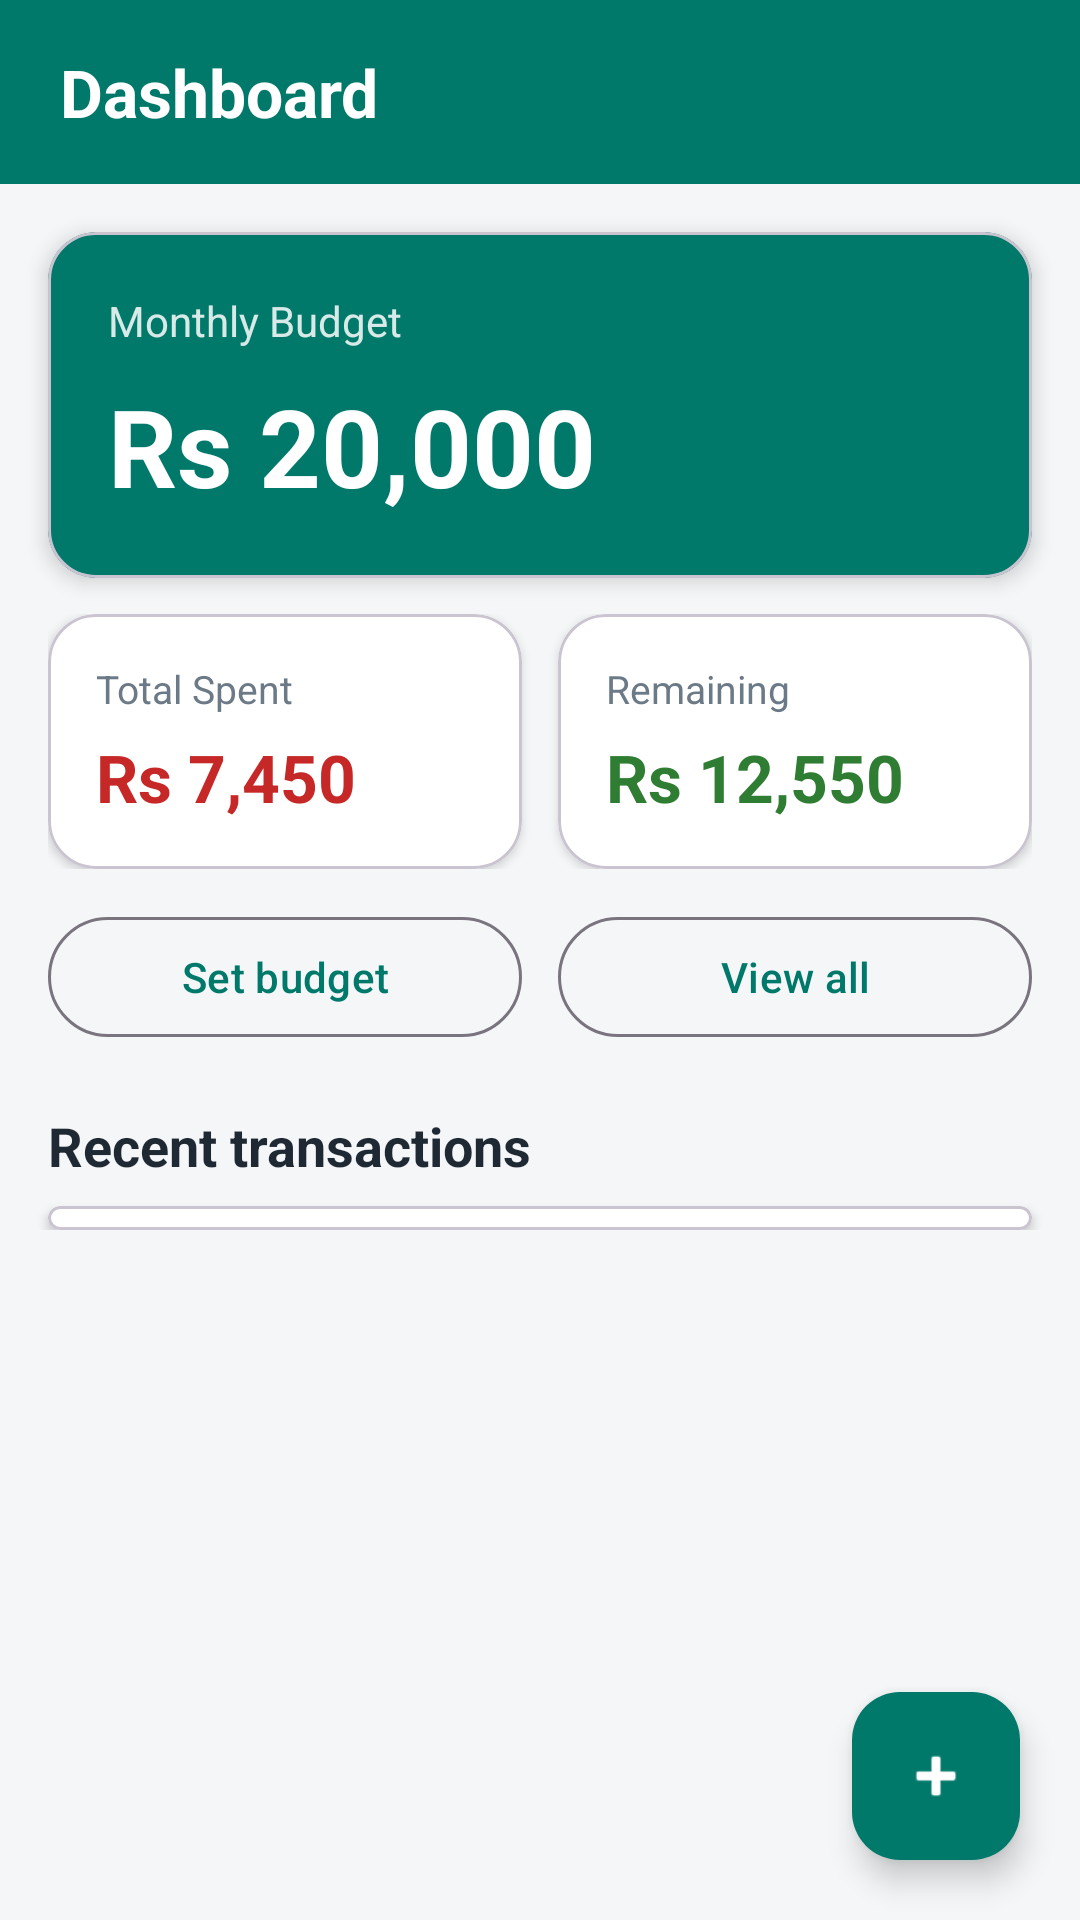

Screen size 1080*1920. Icon name, then its center in pixels as [x,y]:
Add transaction: [936,1776]
